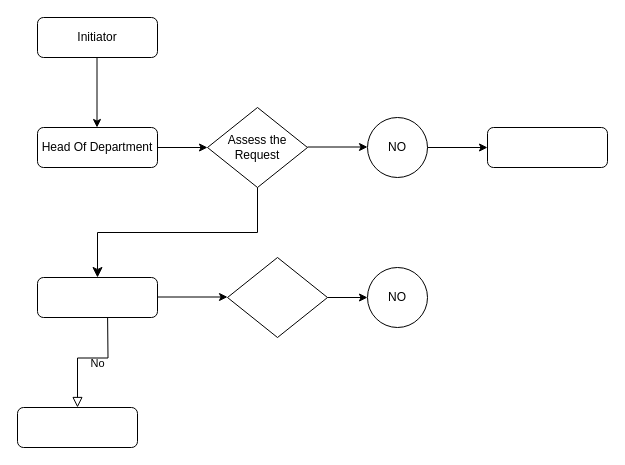
Image size: 625x465. Some labels were removed from this diagram. Each missing label, with the box of its shape:
Feedback/Pending: (486, 126, 608, 168)
Repair Lamp: (16, 406, 138, 448)
